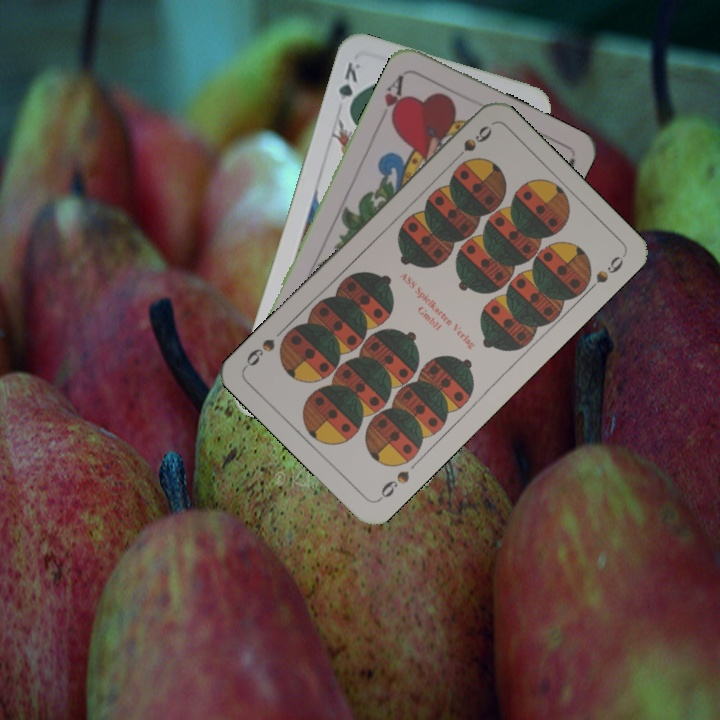GK: (334, 58, 364, 116)
HA: (380, 70, 408, 127)
S9: (447, 121, 495, 167), (374, 467, 412, 504)
